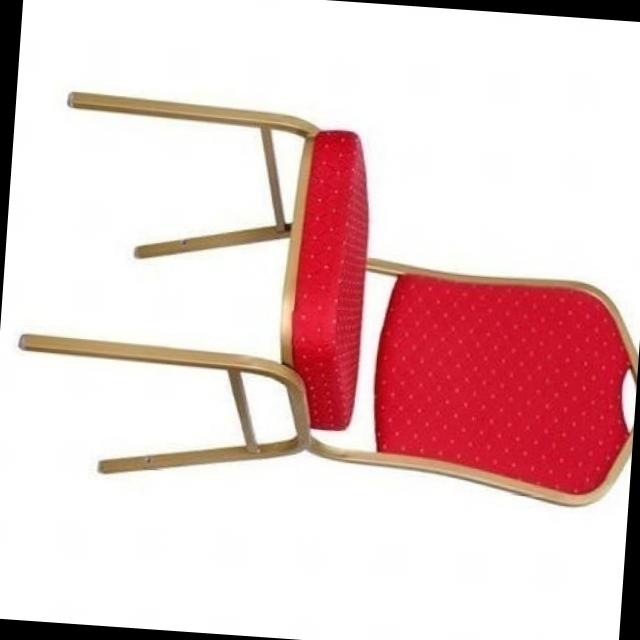Chair: (2, 81, 640, 516)
